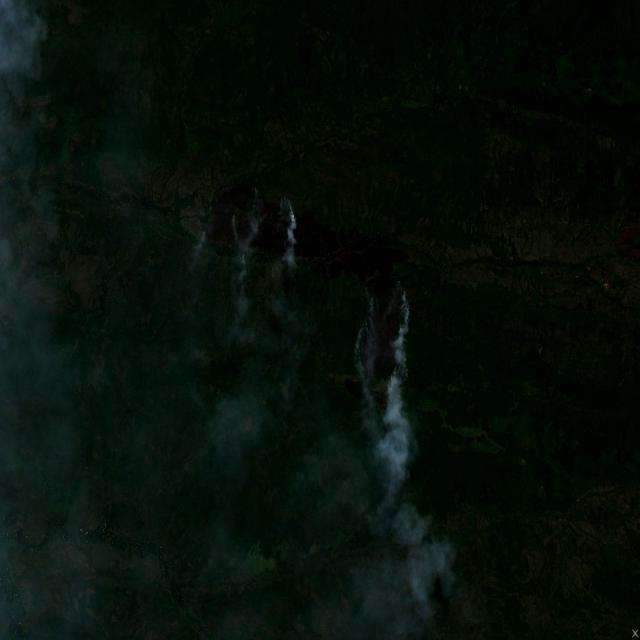fire: (350, 276, 418, 424), (194, 184, 300, 268)
